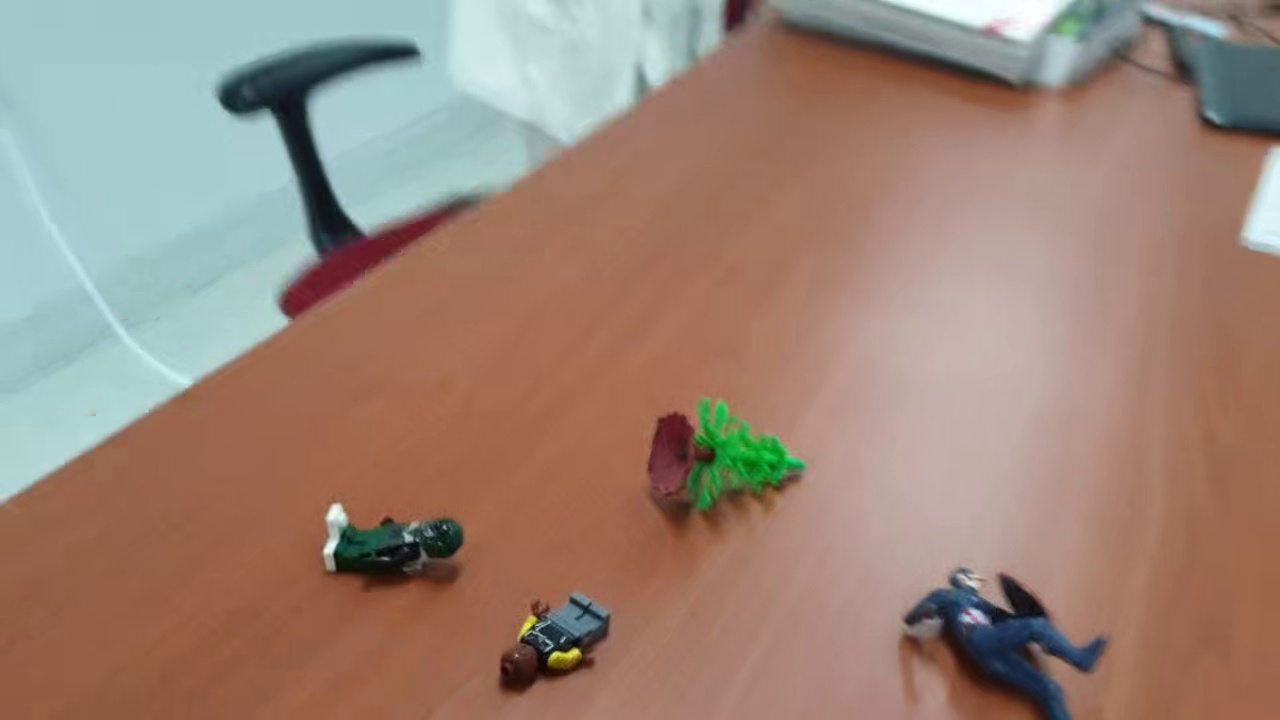people: (905, 568, 1115, 720), (494, 587, 613, 693), (322, 500, 468, 586)
tree: (644, 394, 806, 520)
